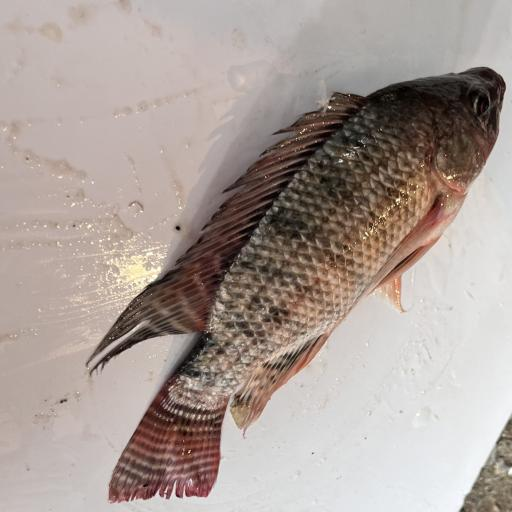Tilapia: (86, 66, 506, 504)
